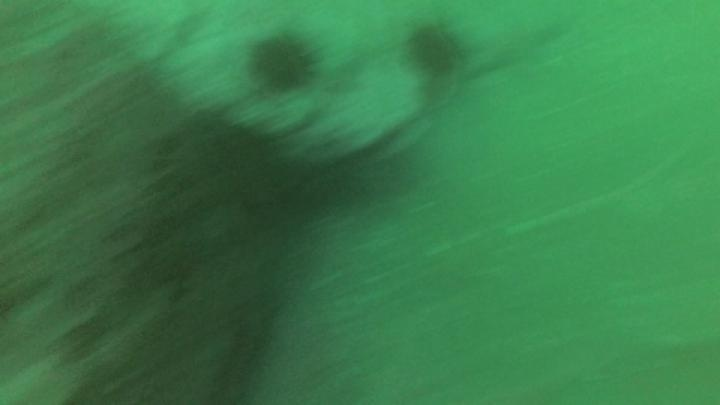echinus: (244, 27, 323, 97), (404, 18, 468, 80)
starfish: (454, 7, 566, 87)
